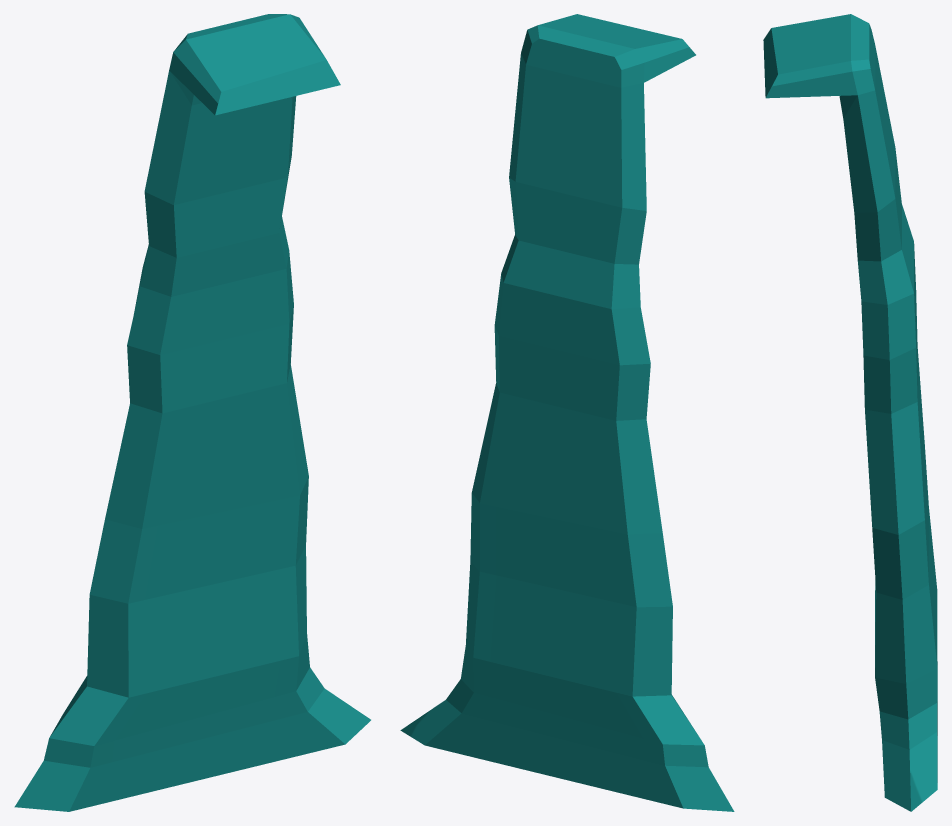
Rendered from CascadaAnimada_000004.obj.
The picture shows the model from 3 angles, left to right: view 1: azimuth 30°, elevation 25°; view 2: azimuth 150°, elevation 25°; view 3: azimuth 270°, elevation 25°; orthographic projection. The views are drawn at different scales.
Parts seen in each view (by area): view 1: Cube.053, Cube.054; view 2: Cube.053, Cube.054; view 3: Cube.053, Cube.054.
Boxes of the visible parts, bbox=[...] form: Cube.053: bbox=[14, 14, 370, 811]; Cube.054: bbox=[169, 14, 340, 115]; Cube.053: bbox=[400, 25, 734, 811]; Cube.054: bbox=[538, 14, 695, 82]; Cube.053: bbox=[839, 14, 937, 811]; Cube.054: bbox=[763, 14, 857, 98].
Bounding box in the file's own units: 136 × 277 × 62.23.
